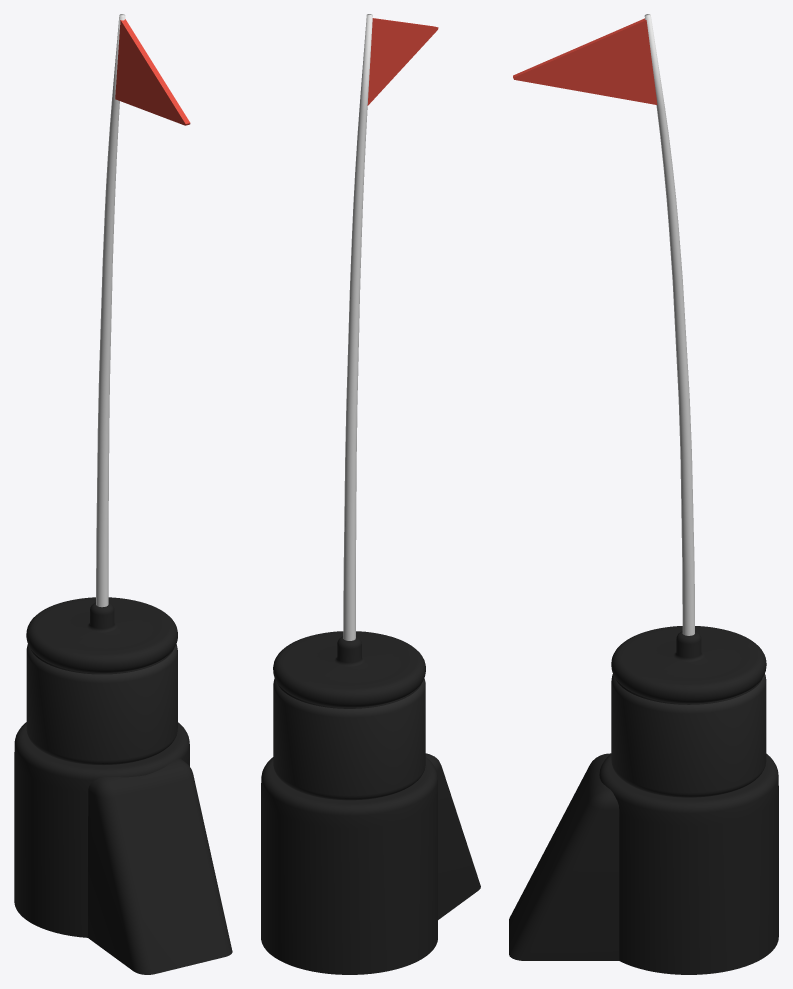
The model's file is lidar_flag.dae.
3 views of the same model, side by side, from view 1: azimuth 30°, elevation 25°; view 2: azimuth 150°, elevation 25°; view 3: azimuth 270°, elevation 25° (orthographic). The views are drawn at different scales.
Visible parts, largest first — view 1: yandex_bot.054; view 2: yandex_bot.054; view 3: yandex_bot.054.
Boxes of the visible parts, x1=… form: yandex_bot.054: x1=14, y1=14, x2=232, y2=974; yandex_bot.054: x1=261, y1=14, x2=480, y2=974; yandex_bot.054: x1=509, y1=14, x2=778, y2=974.
Size of the model in its own units: 0.2645 by 0.3967 by 1.5.
